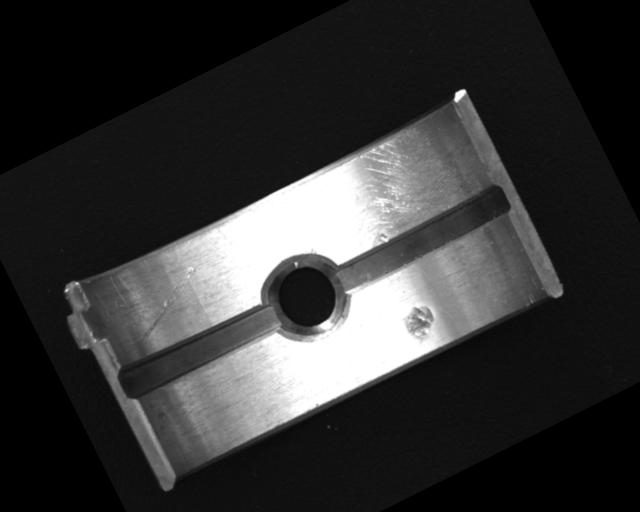bruise: (399, 300, 443, 348)
gap: (323, 180, 514, 301), (115, 297, 283, 405)
hole: (251, 240, 359, 352)
nick: (119, 261, 216, 344)
scratch: (291, 104, 485, 267)
